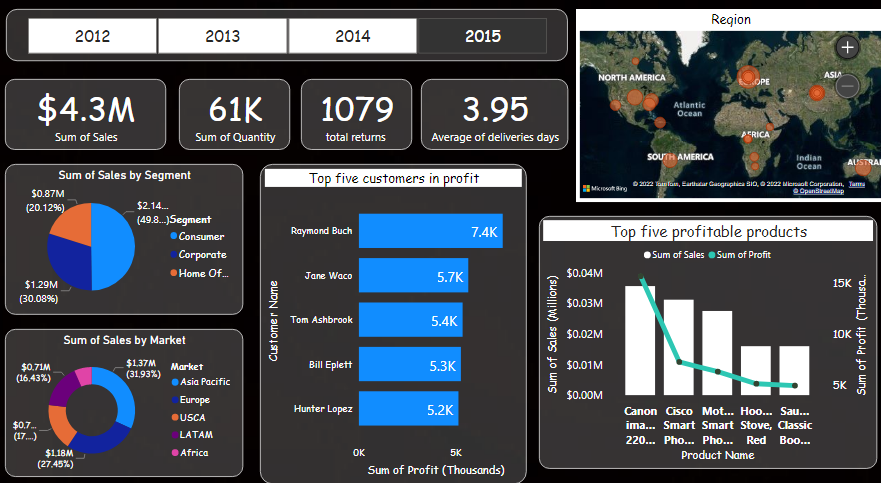

The dashboard page shown, as its layout file describes it:
{"tool":"powerbi","page":{"name":"Page 1","canvas":[1280,720],"ordinal":0},"visuals":[{"type":"card","fields":{"Values":["Sum(Orders.Sales)"]},"box":[11.5,136.8,231.8,102.2],"z":0},{"type":"card","fields":{"Values":["Sum(Orders.Quantity)"]},"box":[262.1,136.8,159.8,102.2],"z":1000},{"type":"card","fields":{"Values":["Avg(Orders.deliveries days)"]},"box":[610.6,136.8,211.7,102.2],"z":2000},{"type":"card","fields":{"Values":["CountNonNull(Returns.Custom)"]},"box":[437.8,136.8,159.8,102.2],"z":3000},{"type":"slicer","fields":{"Values":["Orders.years"]},"box":[13,36,809.3,74.9],"z":4000},{"type":"map","title":" Region","fields":{"Category":["Orders.Region"],"Size":["Sum(Orders.Quantity)"]},"box":[833.8,36,446.4,277.9],"z":5000},{"type":"lineClusteredColumnComboChart","title":"Top five profitable products ","fields":{"Category":["Orders.Product Name"],"Y2":["Sum(Orders.Profit)"],"Y":["Sum(Orders.Sales)"]},"box":[780.5,334.1,486.7,364.3],"z":6000},{"type":"pieChart","fields":{"Category":["Orders.Segment"],"Y":["Sum(Orders.Sales)"]},"box":[11.5,259.2,342.7,217.4],"z":7000},{"type":"donutChart","fields":{"Y":["Sum(Orders.Sales)"],"Category":["Orders.Market"]},"box":[11.5,496.8,342.7,213.1],"z":8000},{"type":"barChart","title":"Top five customers in profit","fields":{"Category":["Orders.Customer Name"],"Y":["Sum(Orders.Profit)"]},"box":[378.6,259.7,383.7,460.7],"z":9000}]}

Visuals, with their boxes in screenshot pixels (x1, y1, x2, y2), scaled from the page's 1280x720 canvas onto the 881x483 screenshot:
card - Sum(Orders.Sales): detection(8, 92, 167, 160)
card - Sum(Orders.Quantity): detection(180, 92, 290, 160)
card - Avg(Orders.deliveries days): detection(420, 92, 566, 160)
card - CountNonNull(Returns.Custom): detection(301, 92, 411, 160)
slicer - Orders.years: detection(9, 24, 566, 74)
" Region" map: detection(574, 24, 880, 211)
"Top five profitable products " lineClusteredColumnComboChart: detection(537, 224, 872, 469)
pieChart - Orders.Segment x Sum(Orders.Sales): detection(8, 174, 244, 320)
donutChart - Sum(Orders.Sales) x Orders.Market: detection(8, 333, 244, 476)
"Top five customers in profit" barChart: detection(261, 174, 525, 482)
